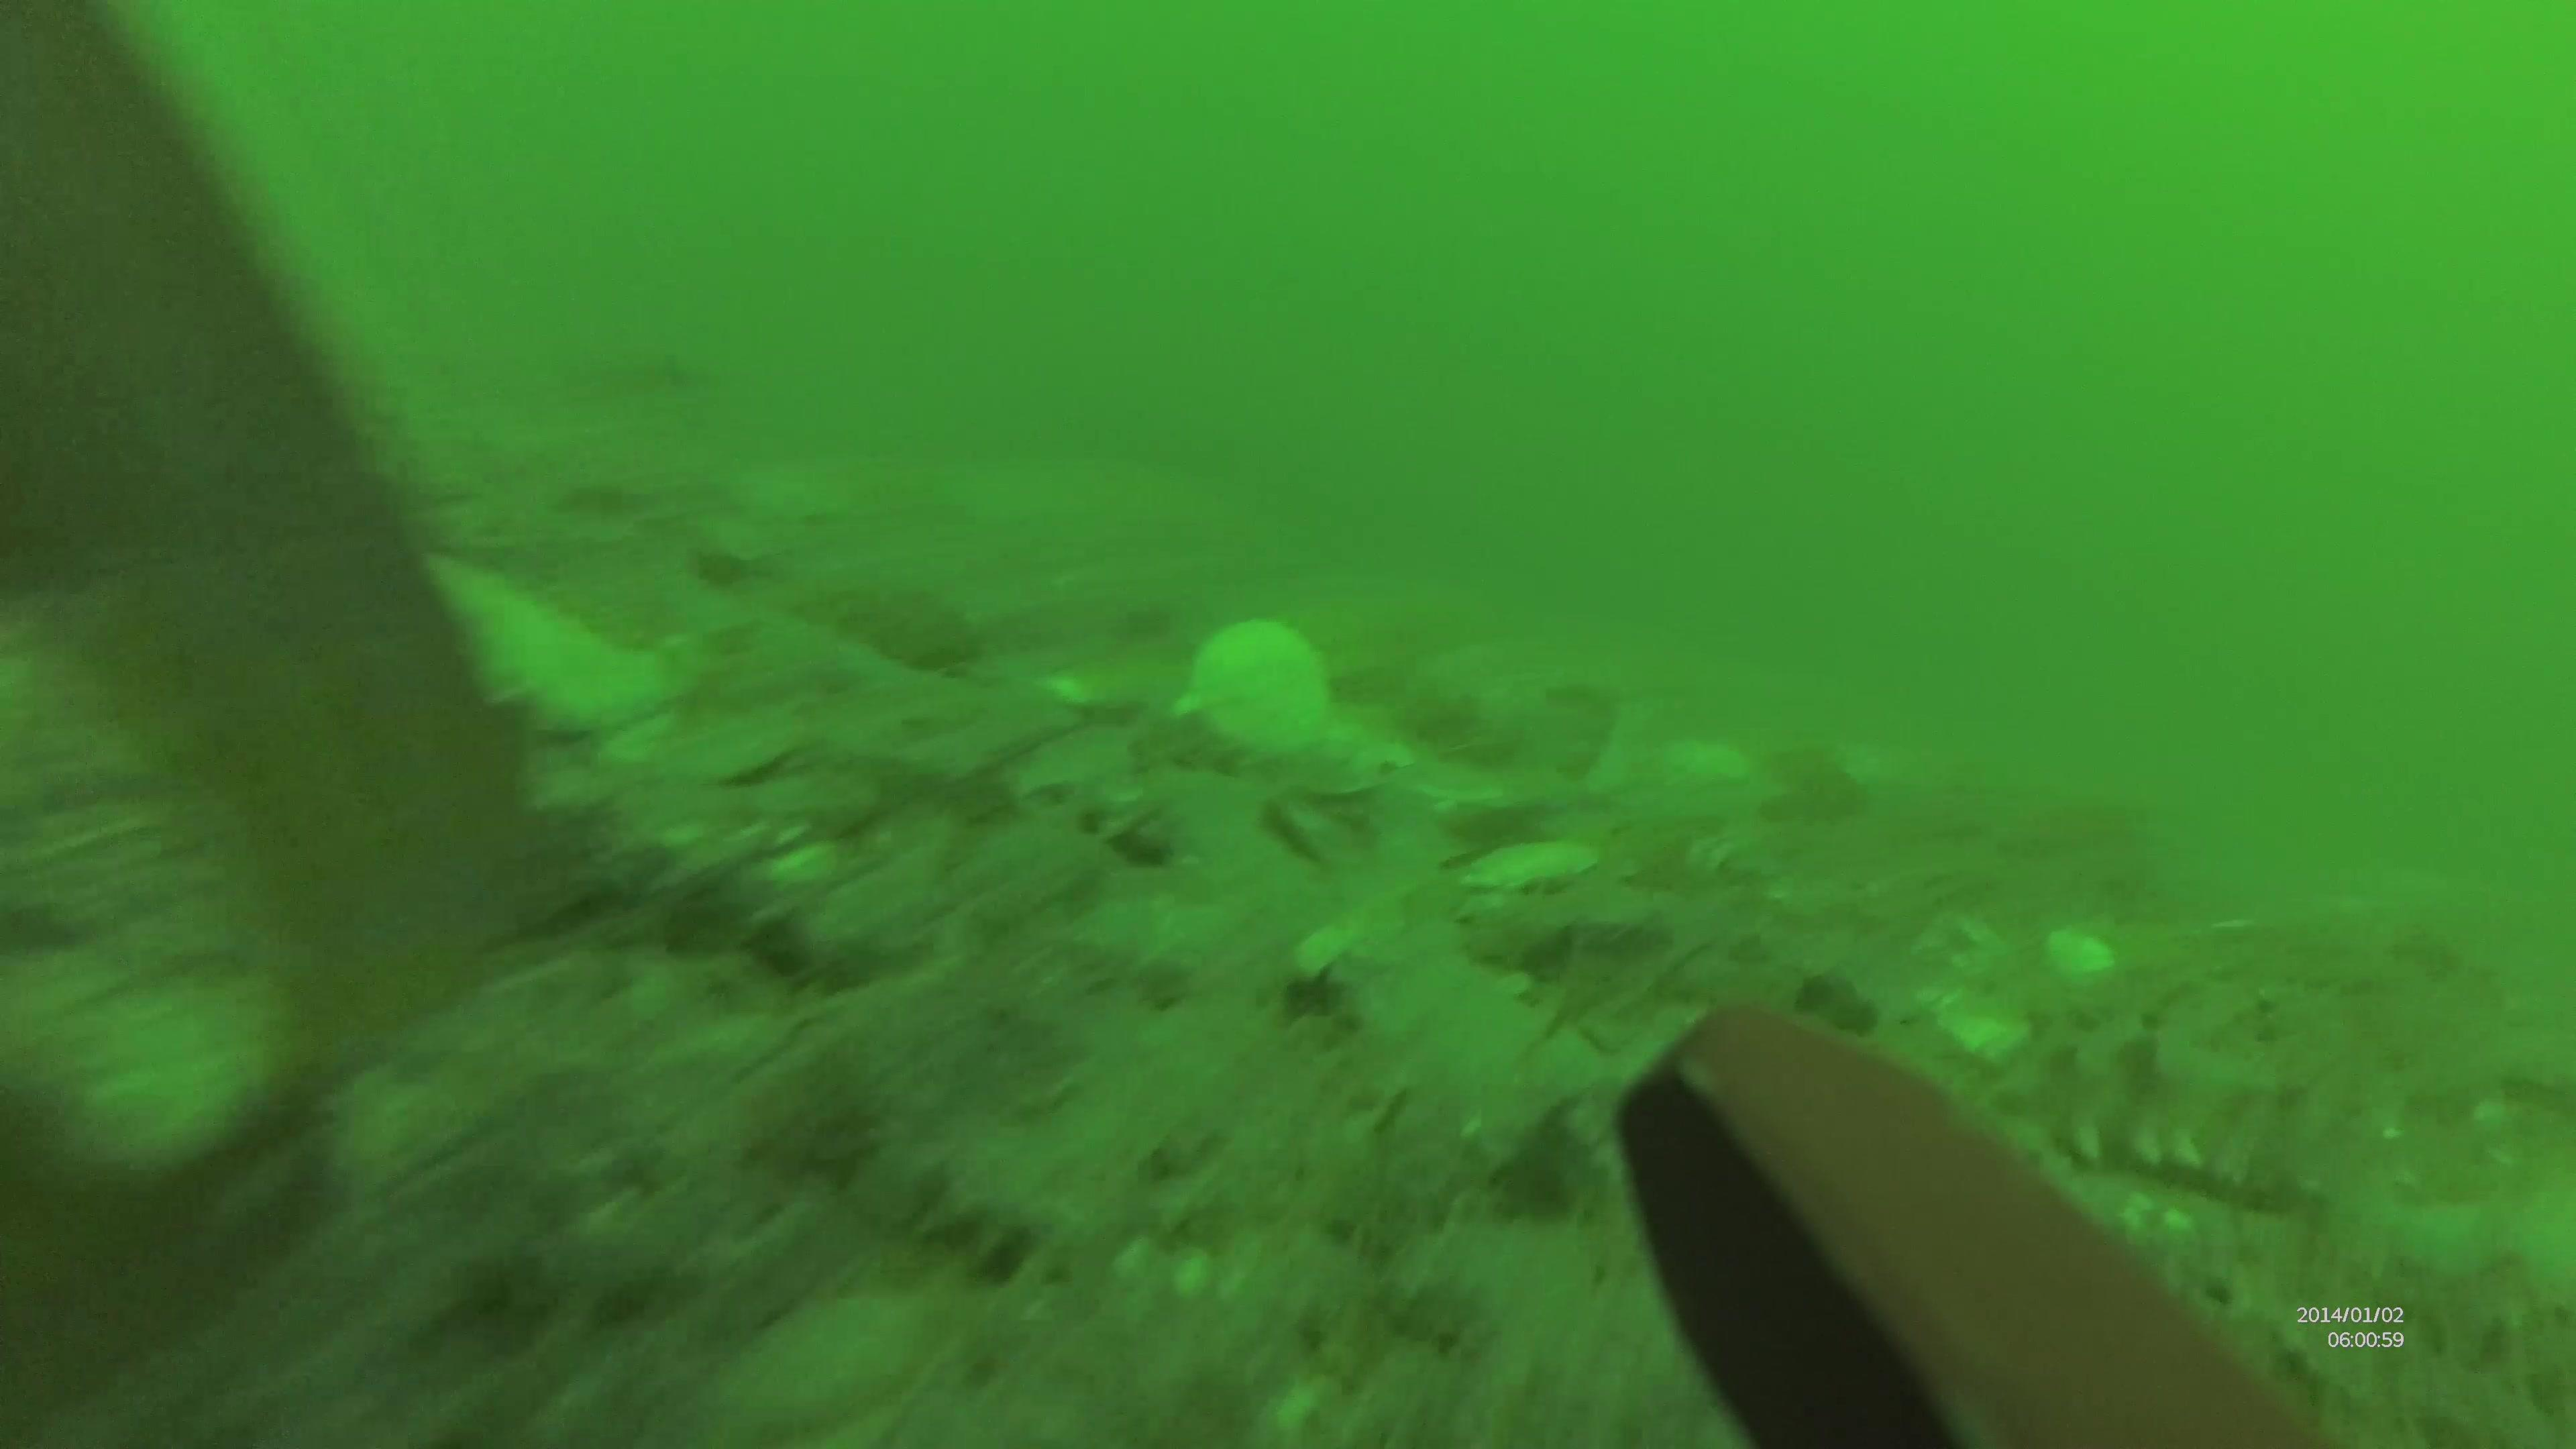holothurian: (2024, 1014, 2318, 1201)
